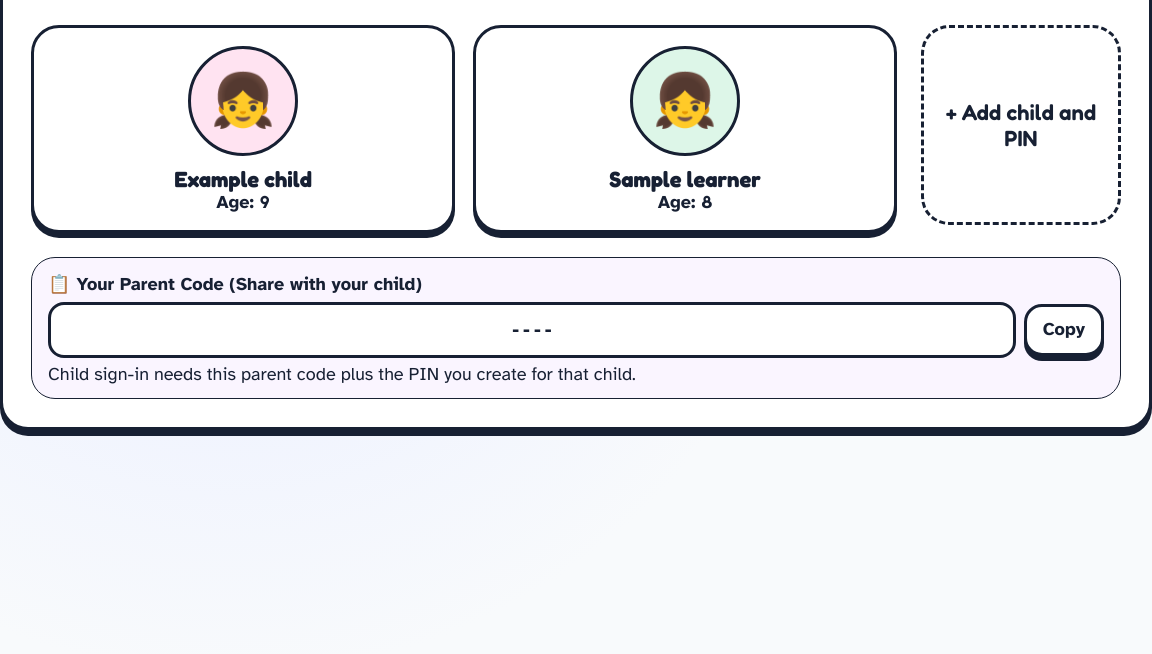
child picker behaviour › keeps Add child permission-gated and preserves PIN mismatch announcements
Click the button "+ Add child and PIN".
click(1021, 125)  # box [921, 25, 1121, 225]
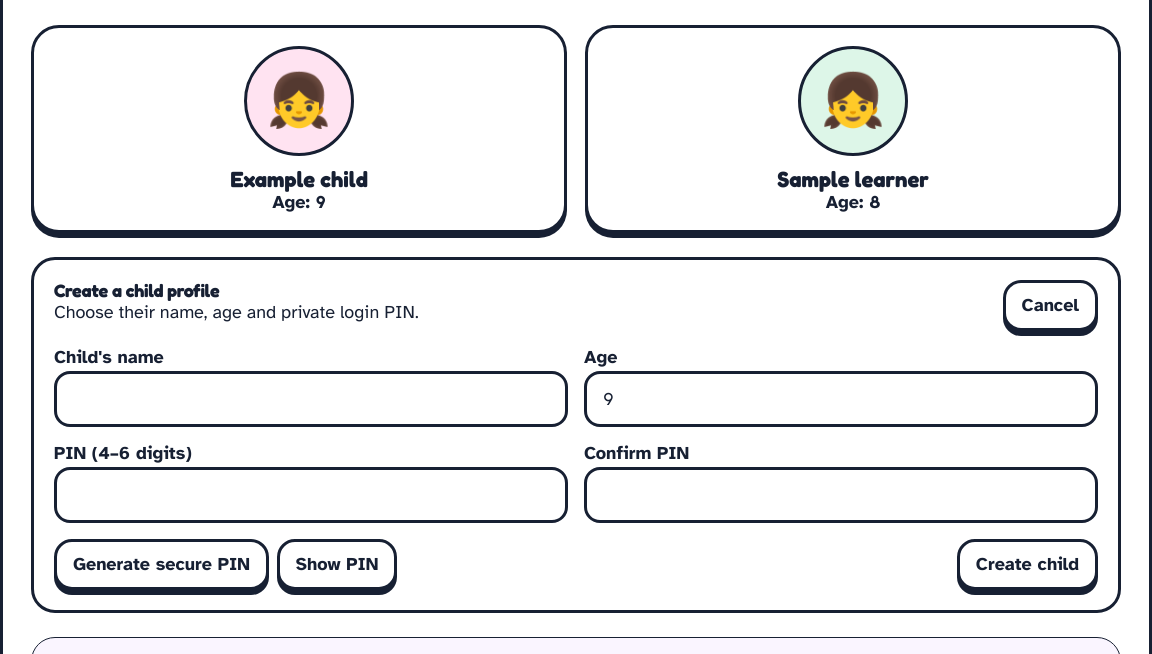
Type "Example learner" into the field labelled "Child's name".
click(311, 399); type("Example learner")  # box [54, 371, 568, 427]
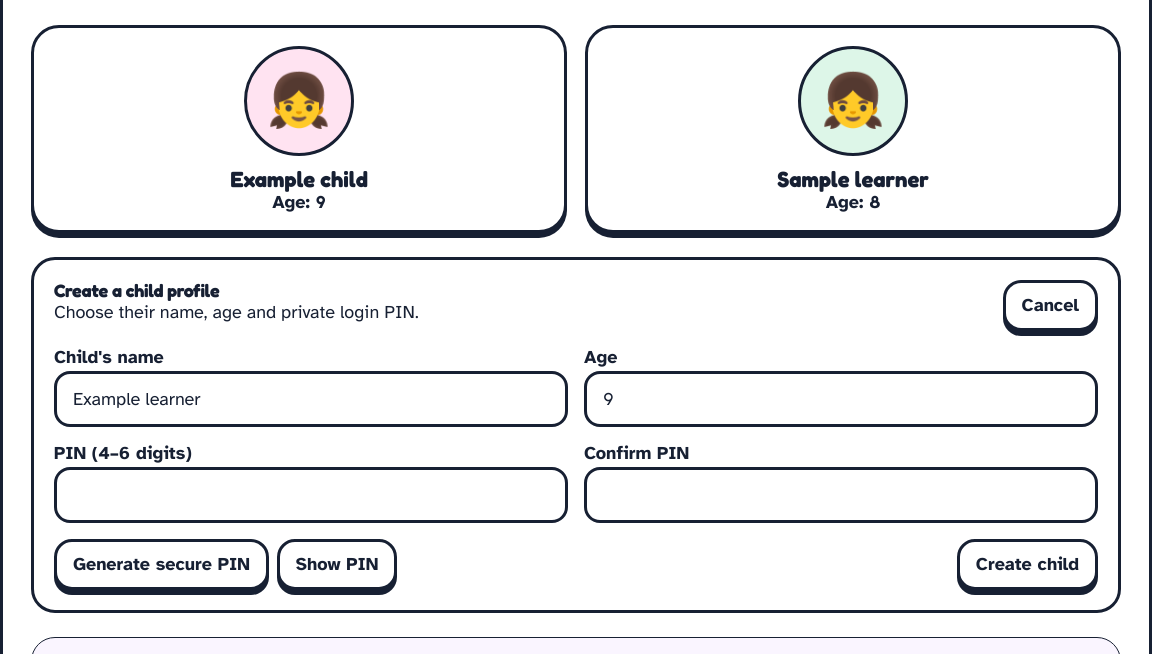
Type "0000" into the password field labelled "PIN (4–6 digits)".
click(311, 495); type("0000")  # box [54, 467, 568, 523]
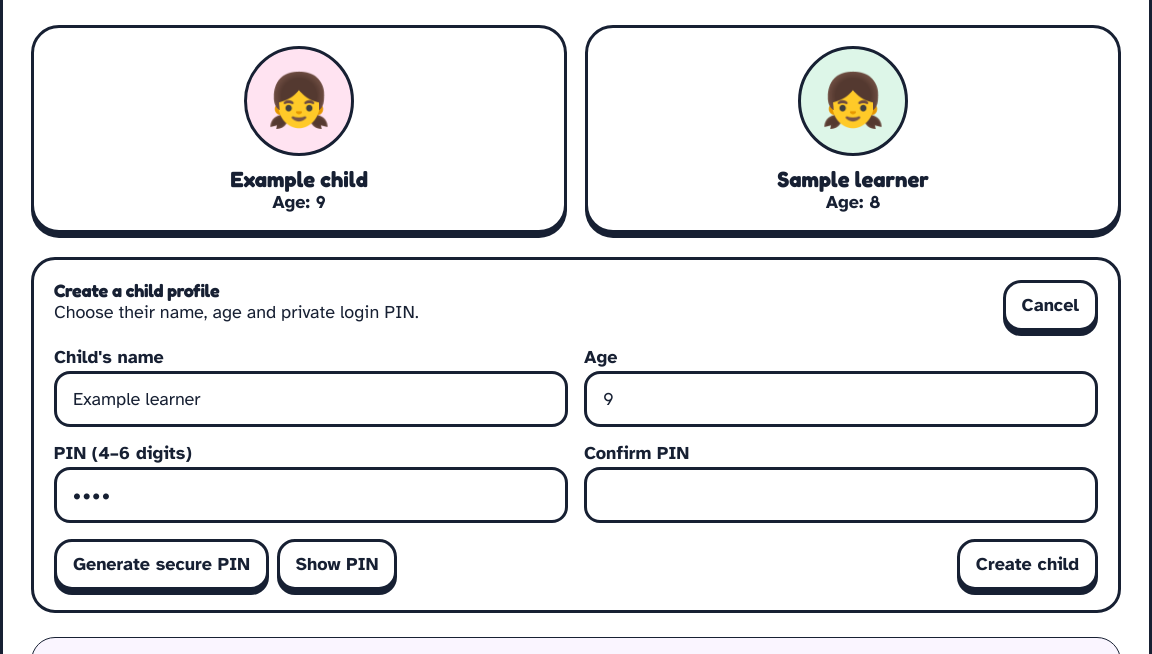
Type "1111" into the password field labelled "Confirm PIN".
click(841, 495); type("1111")  # box [584, 467, 1098, 523]
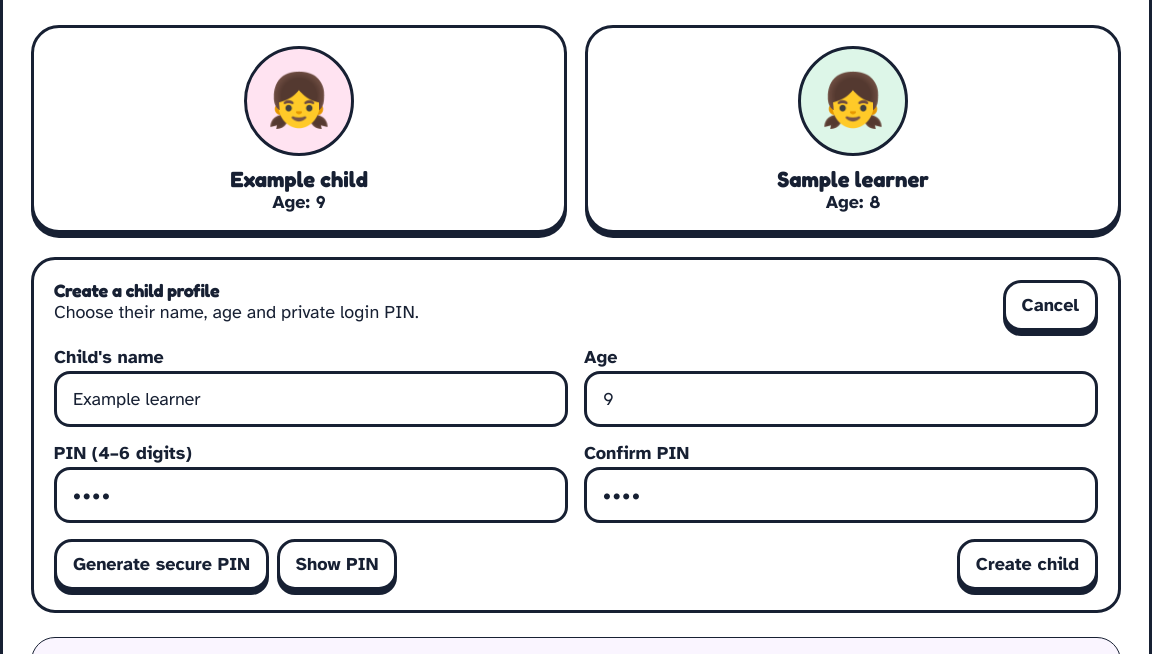
Submit the form named "Child's name", box [31, 257, 1121, 613]
(page scrolled)
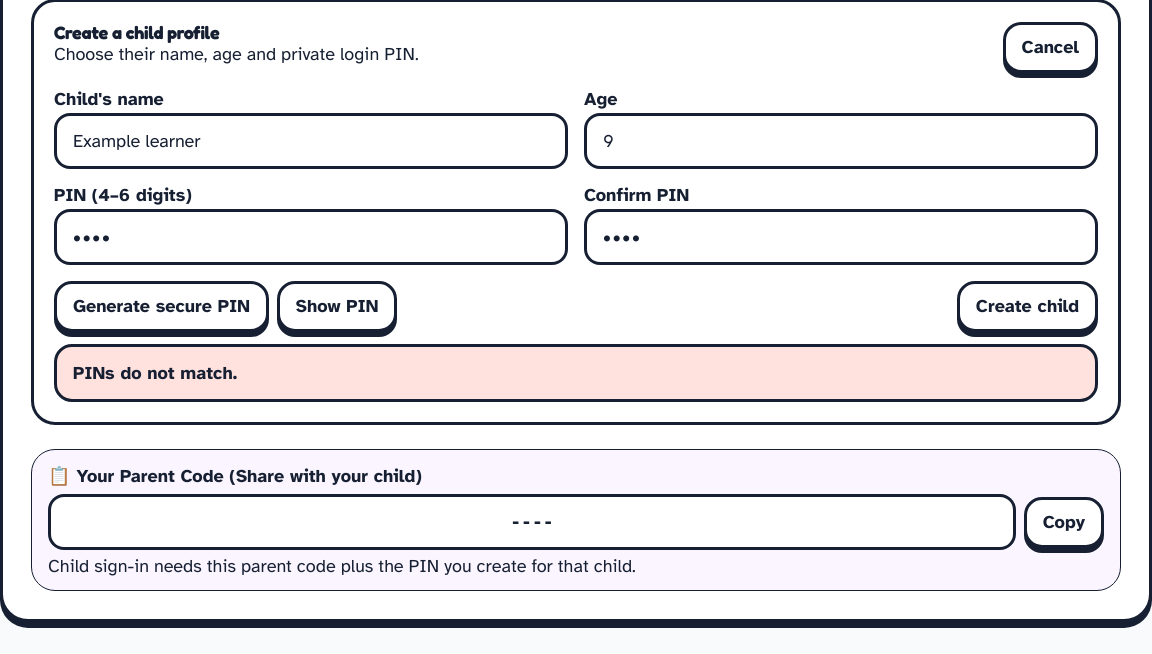
Expected: the message reads "PINs do not match.", [73, 362, 237, 384]
